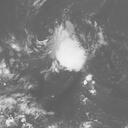cyclone: (48, 26, 86, 73)
